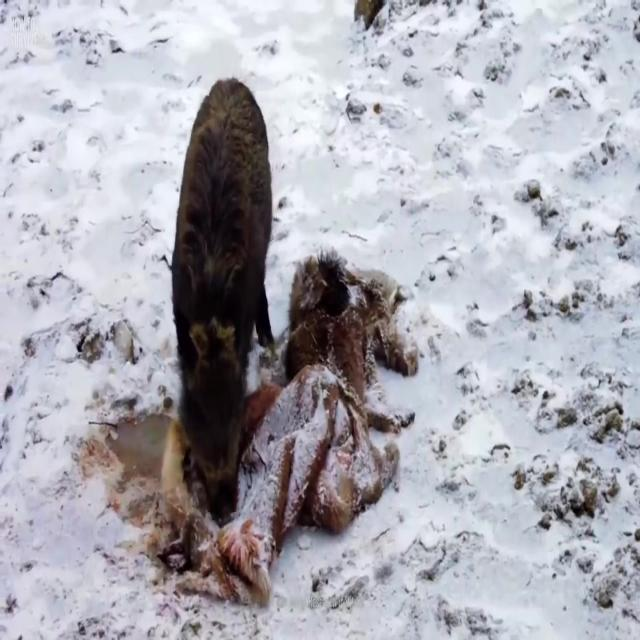pig: (140, 35, 294, 505)
